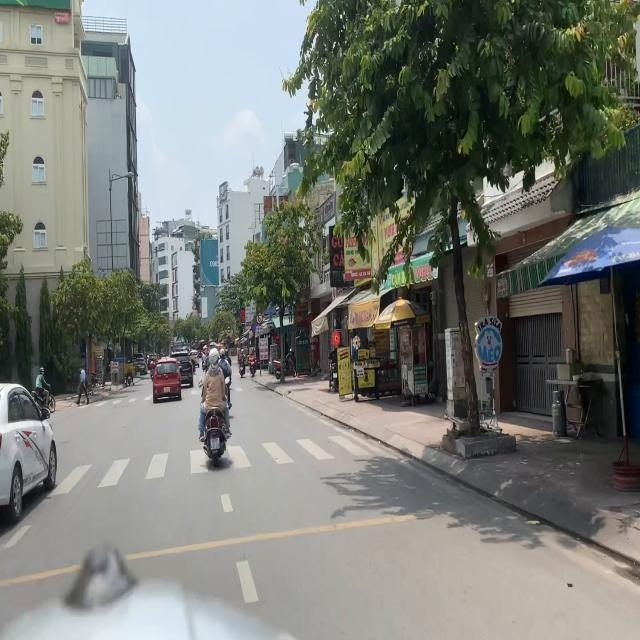bien_cam: (256, 311, 263, 325), (227, 325, 230, 333)
